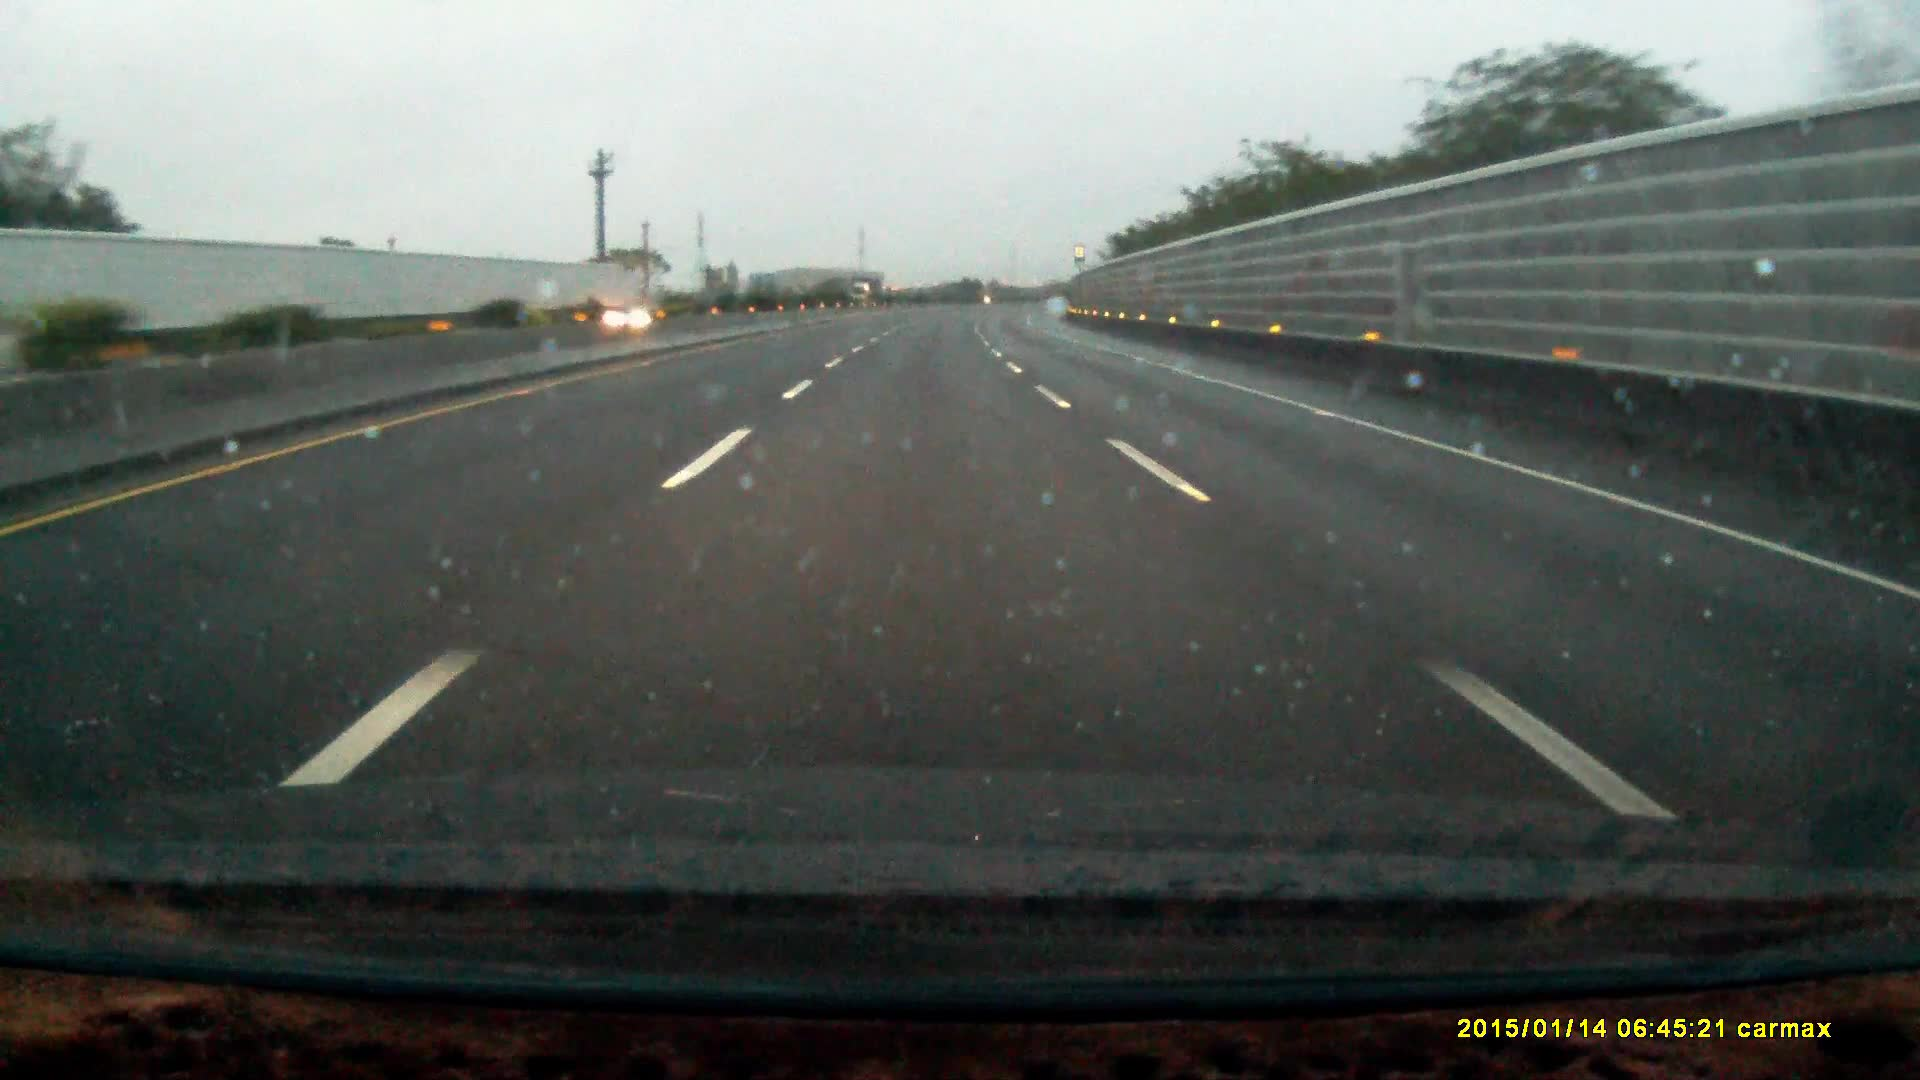vehicle: (601, 299, 673, 338), (851, 278, 884, 305)
